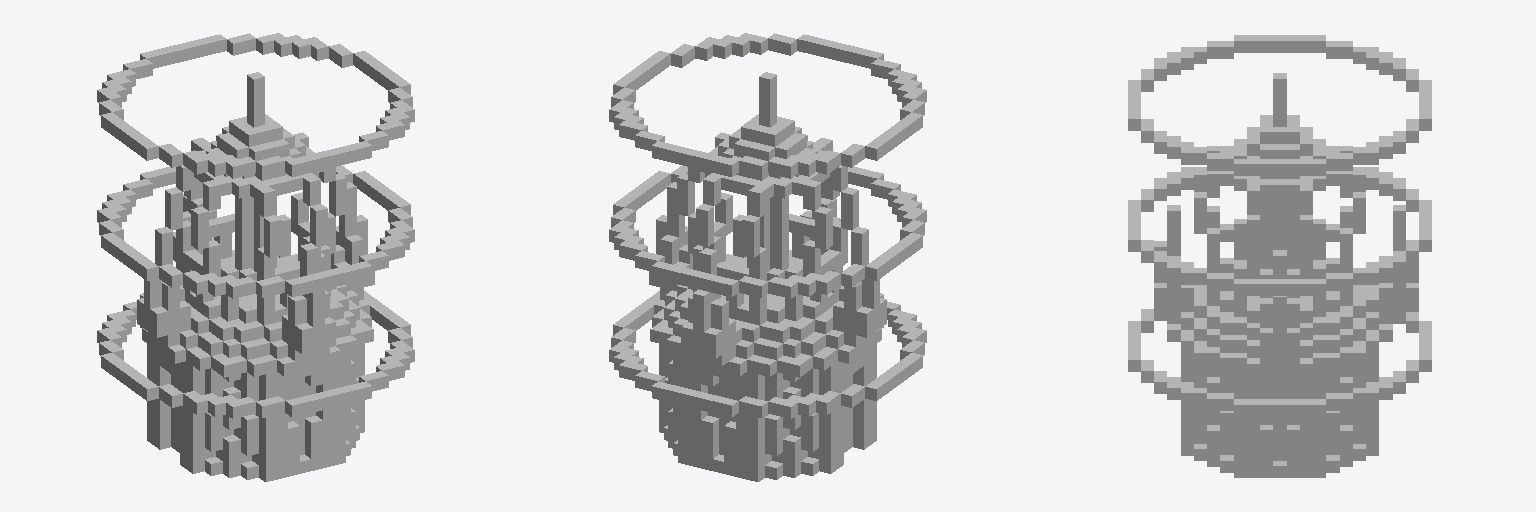
Rendered from Safari_tower3.obj.
3 renders of one model, left to right at view 1: azimuth 30°, elevation 25°; view 2: azimuth 150°, elevation 25°; view 3: azimuth 270°, elevation 25°, orthographic.
Bounding box in the file's own units: 23 × 30 × 23.